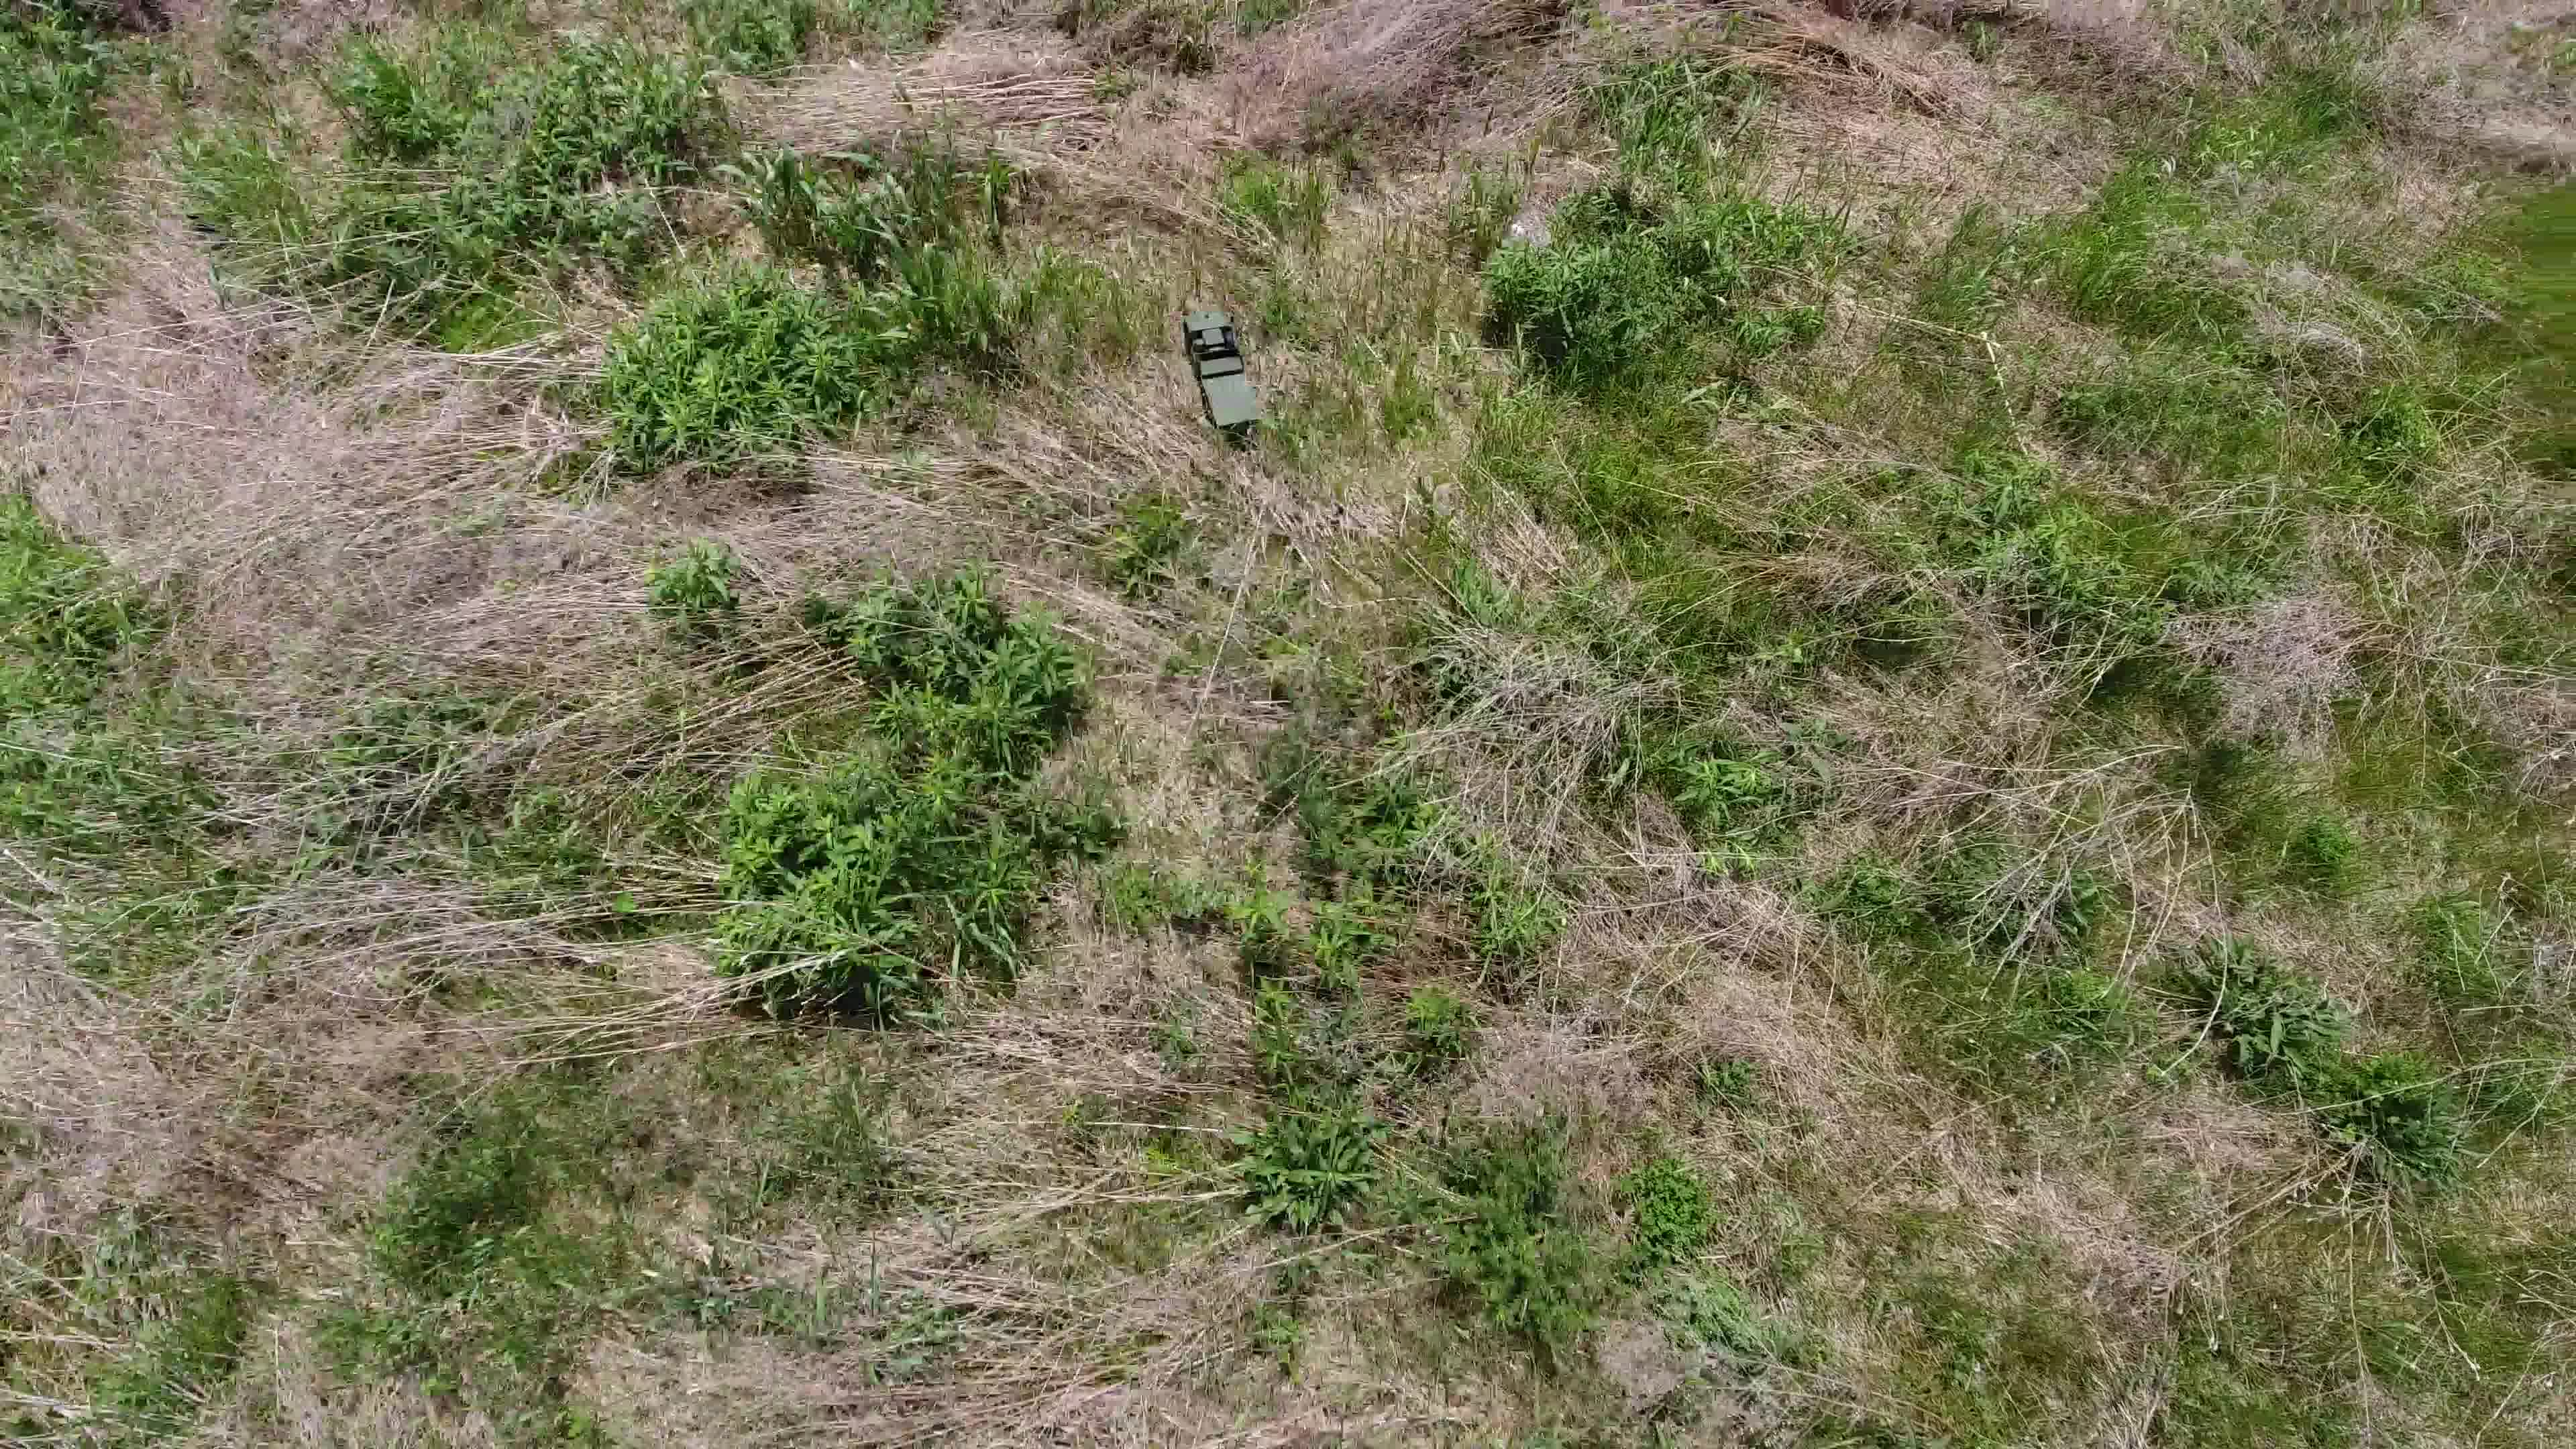transporter9: (1180, 303, 1265, 432)
